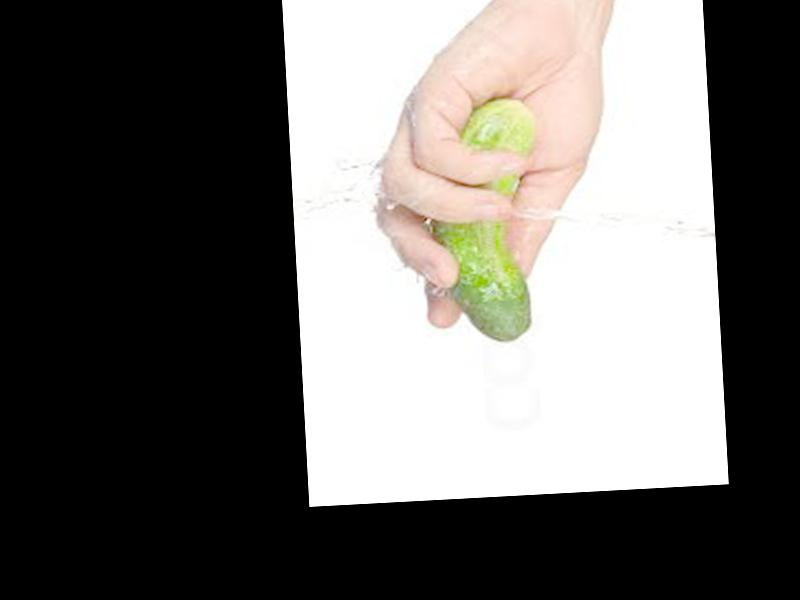Cucumber: (432, 98, 543, 346)
